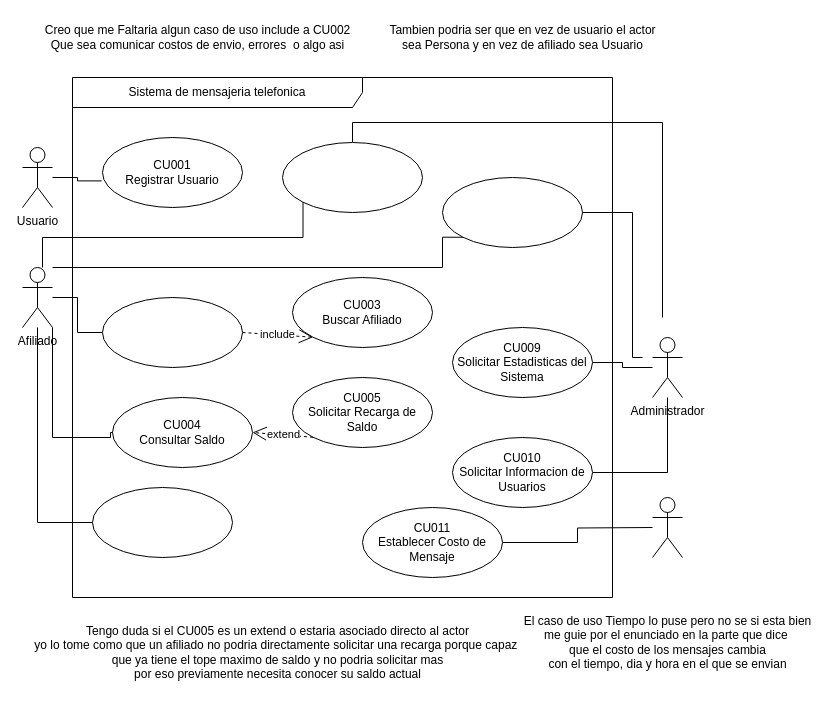
This 840x704 diagram has some shape labels left out. The shapes that lost their labels are listed below. From the top down, each one's box as (x1, y1, x2, y2) in pixels, then its label:
(282, 142, 422, 212): CU007 Iniciar Sesion
(442, 176, 582, 248): CU008 Cerrar Sesion
(102, 296, 242, 368): CU002 Enviar Mensaje
(92, 486, 232, 558): CU006 Actividad/Desactivar Desvio del telefono
(652, 496, 682, 558): Tiempo
